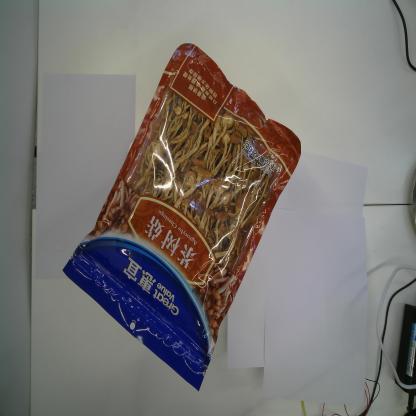Dried Food: (59, 43, 303, 392)
